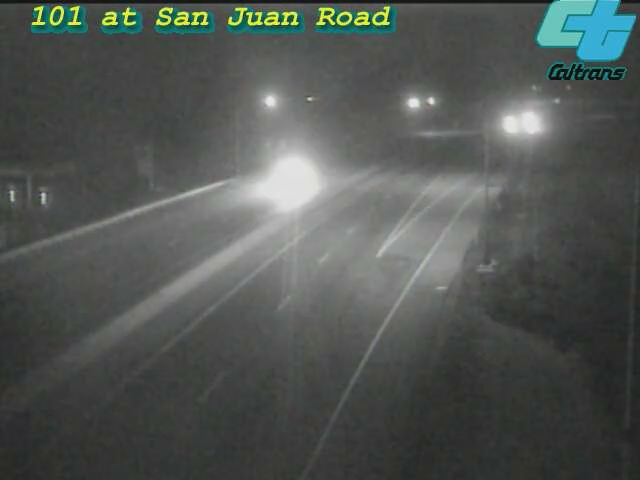vehicle: (248, 136, 328, 216), (509, 105, 559, 155), (484, 100, 534, 150), (504, 96, 554, 146)
